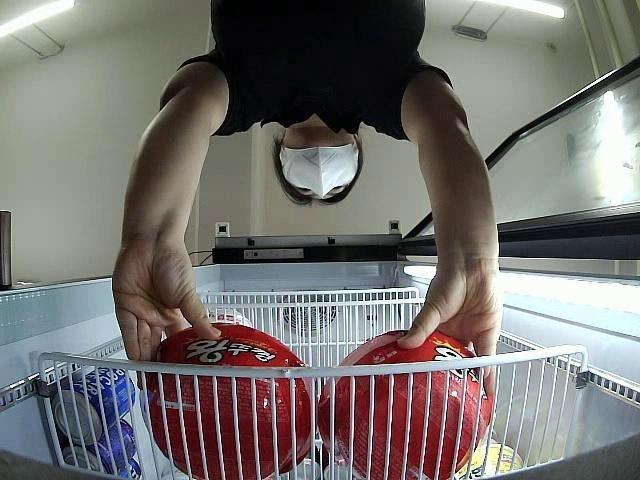10_wangTtukkeong: (140, 324, 318, 480), (323, 329, 492, 480)
